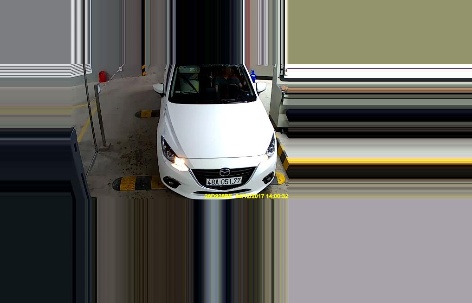plate: (206, 175, 243, 187)
